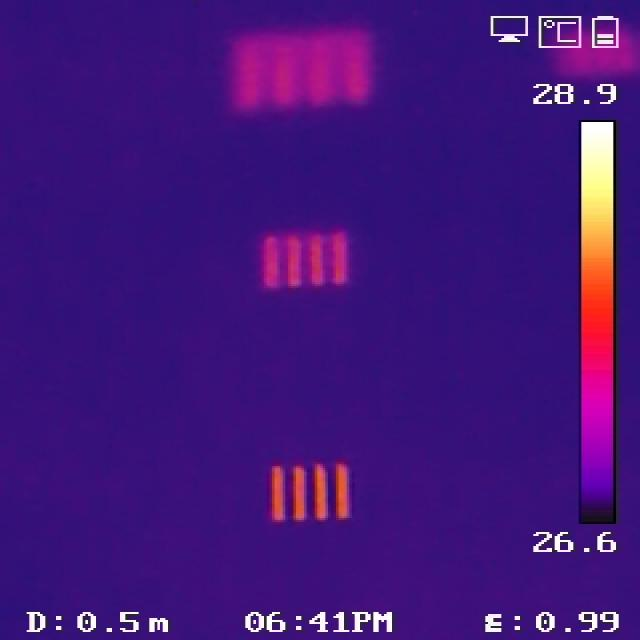Distinguishable 4-bar target: (252, 225, 355, 291), (264, 457, 357, 524)
threshold 4-bar target: (220, 28, 376, 110)
